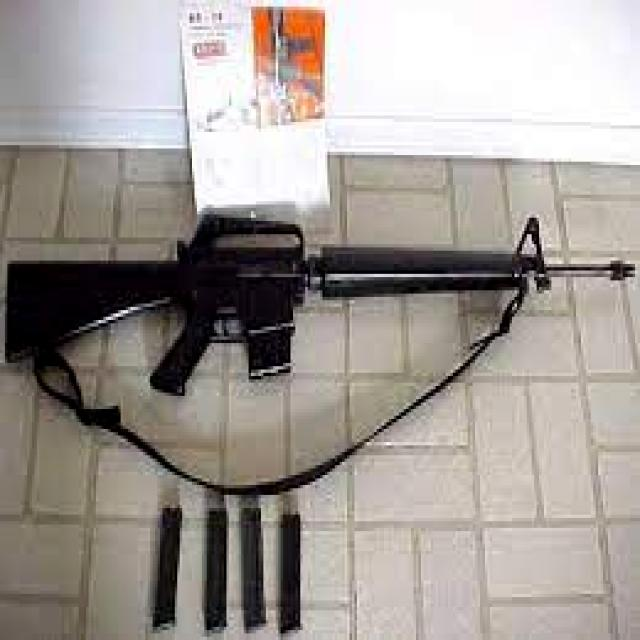m16: (10, 195, 630, 471)
